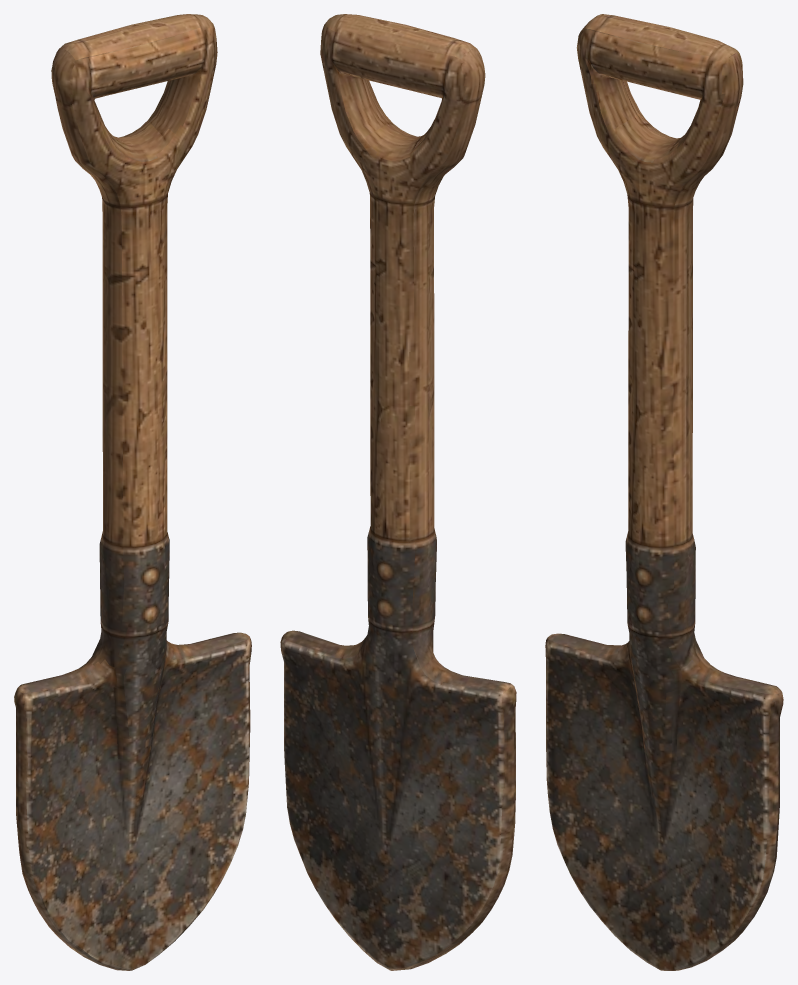
Rendered from shovel-iron.glb.
The picture shows the model from 3 angles, left to right: view 1: azimuth 30°, elevation 25°; view 2: azimuth 150°, elevation 25°; view 3: azimuth 330°, elevation 25°; orthographic projection.
Visible parts, largest first — view 1: Mesh0; view 2: Mesh0; view 3: Mesh0.
Boxes of the visible parts, x1,y1,x2,y2 form: Mesh0: (14, 14, 251, 970); Mesh0: (280, 14, 516, 970); Mesh0: (545, 14, 783, 970).
Bounding box in the file's own units: 0.2869 × 1.1 × 0.0745.
1 material, 1 textured.
